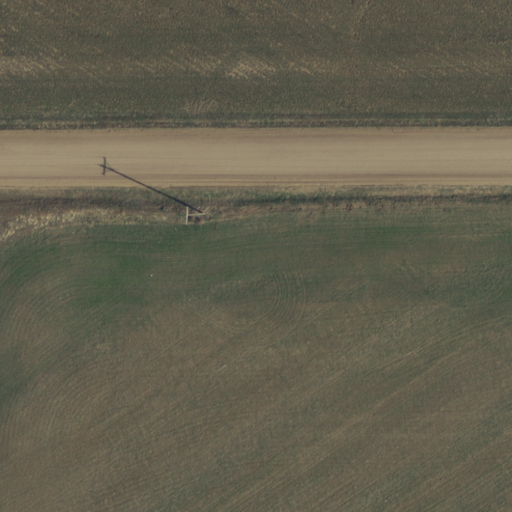DT: (175, 199, 213, 235)
